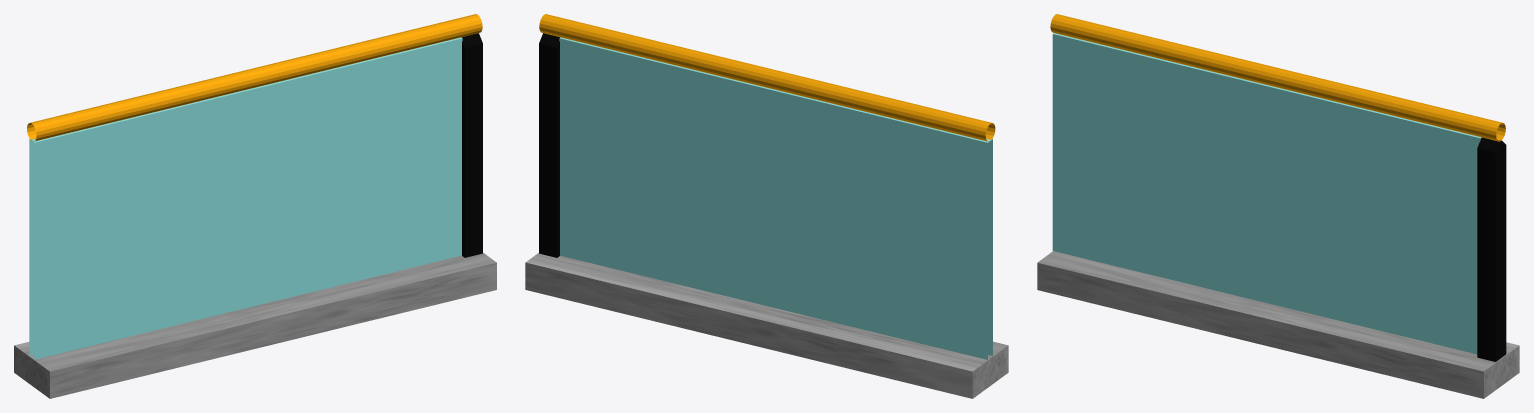
File: CercaVidro.fbx
The picture shows the model from 3 angles, left to right: view 1: azimuth 30°, elevation 25°; view 2: azimuth 150°, elevation 25°; view 3: azimuth 330°, elevation 25°; orthographic projection.
Parts seen in each view (by area): view 1: CercaVidro; view 2: CercaVidro; view 3: CercaVidro.
Boxes of the visible parts, bbox=[...] form: CercaVidro: bbox=[14, 14, 496, 398]; CercaVidro: bbox=[525, 14, 1008, 398]; CercaVidro: bbox=[1037, 14, 1519, 398].
Size of the model in its own units: 426 by 239 by 59.12.
